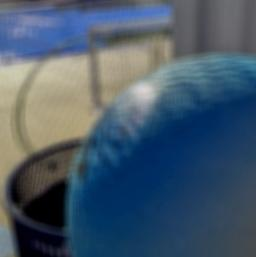algae: (67, 54, 256, 257)
